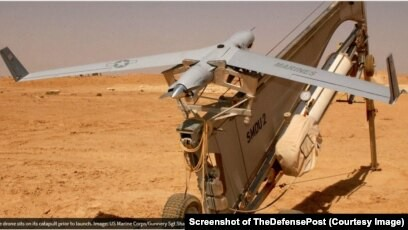maybay_khongnguoilai: (5, 29, 399, 114)
